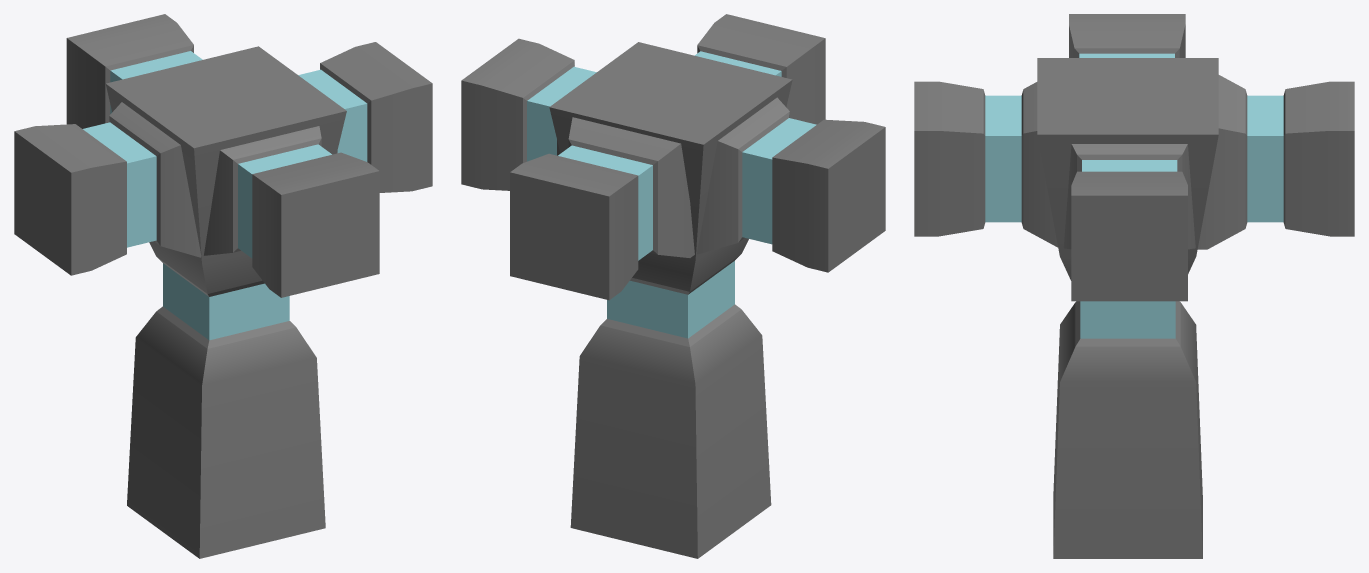
Rendered from LargePiller.fbx.
3 renders of one model, left to right at view 1: azimuth 30°, elevation 25°; view 2: azimuth 150°, elevation 25°; view 3: azimuth 270°, elevation 25°, orthographic. The views are drawn at different scales.
Visible parts, largest first — view 1: Large_Piller; view 2: Large_Piller; view 3: Large_Piller.
Boxes of the visible parts, bbox=[...] form: Large_Piller: bbox=[14, 14, 432, 558]; Large_Piller: bbox=[461, 14, 885, 558]; Large_Piller: bbox=[914, 14, 1354, 558].
Bounding box in the file's own units: 38.14 × 42.17 × 39.07.
